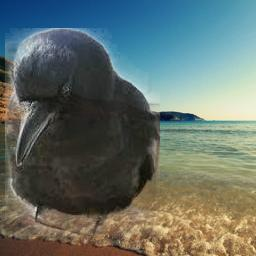Crow: (6, 28, 161, 236)
